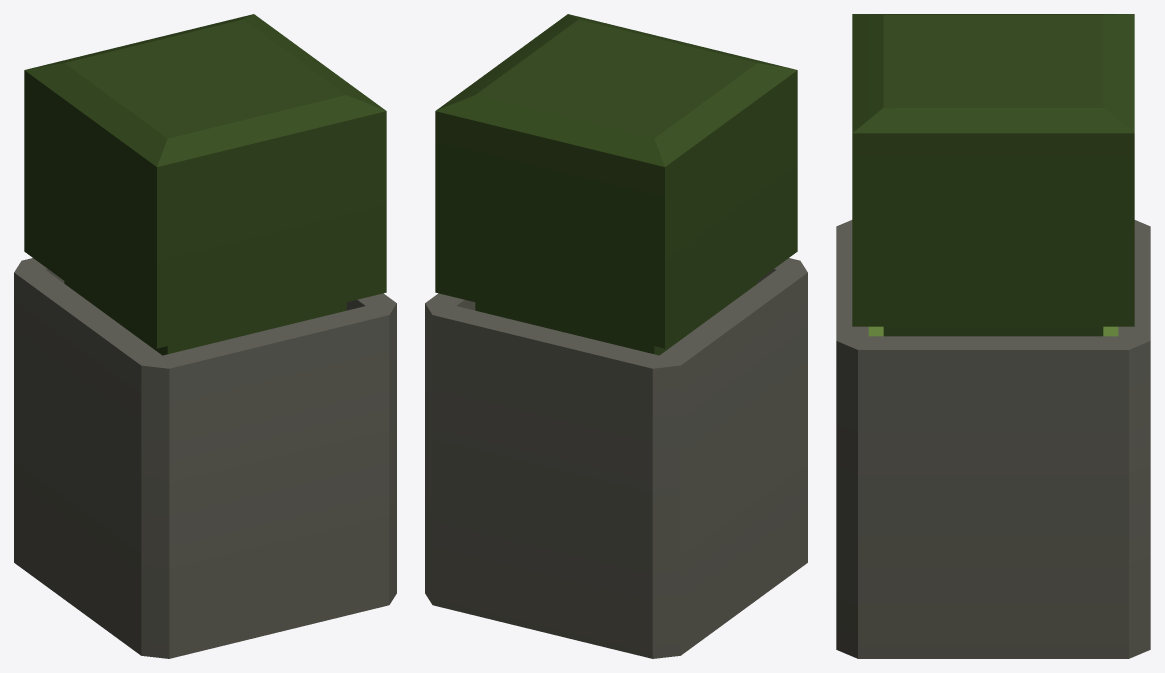
File: FlowerBed_02.fbx
3 renders of one model, left to right at view 1: azimuth 30°, elevation 25°; view 2: azimuth 150°, elevation 25°; view 3: azimuth 270°, elevation 25°, orthographic. The views are drawn at different scales.
Parts seen in each view (by area): view 1: FlowerBed_02; view 2: FlowerBed_02; view 3: FlowerBed_02.
Part boxes in pixels (box(x1,y1,x2,y2)): FlowerBed_02: box(14, 14, 396, 658); FlowerBed_02: box(425, 14, 807, 658); FlowerBed_02: box(836, 14, 1150, 658).
Bounding box in the file's own units: 0.5882 × 1.1 × 0.5882.
